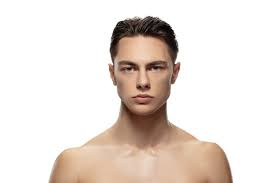face: (106, 16, 185, 123)
